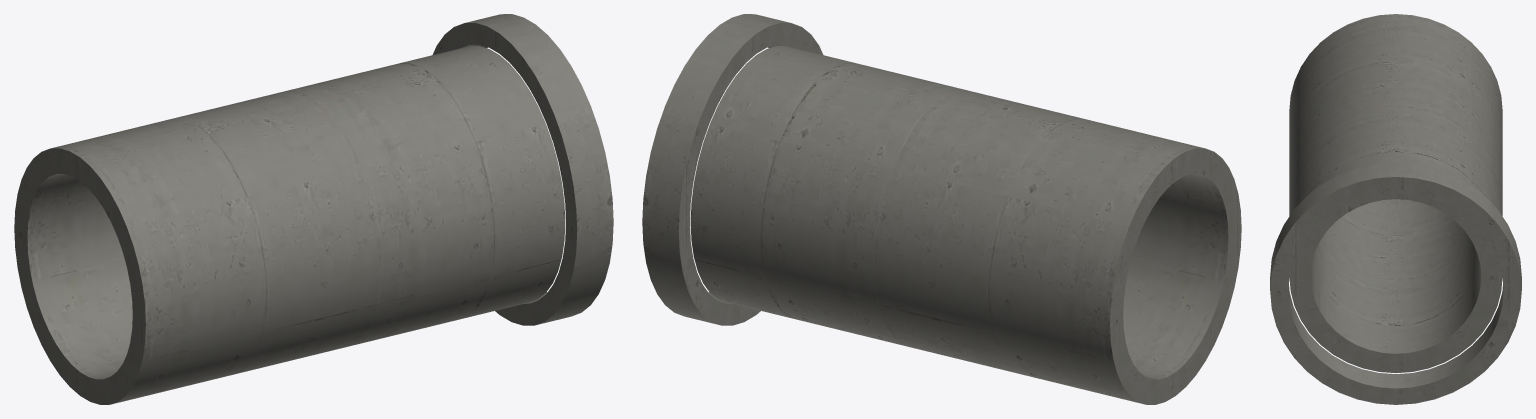
File: HID-DRN-001.glb
The picture shows the model from 3 angles, left to right: view 1: azimuth 30°, elevation 25°; view 2: azimuth 150°, elevation 25°; view 3: azimuth 270°, elevation 25°; orthographic projection. The views are drawn at different scales.
Visible parts, largest first — view 1: HID-DRN-001_tubo, HID-DRN-001_bolsa; view 2: HID-DRN-001_tubo, HID-DRN-001_bolsa; view 3: HID-DRN-001_tubo, HID-DRN-001_bolsa.
Part boxes in pixels (x1,y1,x2,y2): HID-DRN-001_tubo: (14, 46, 565, 404); HID-DRN-001_bolsa: (432, 14, 613, 325); HID-DRN-001_tubo: (690, 46, 1241, 404); HID-DRN-001_bolsa: (642, 14, 823, 325); HID-DRN-001_tubo: (1289, 14, 1502, 372); HID-DRN-001_bolsa: (1270, 162, 1521, 404).
Size of the model in its own units: 1 by 0.59 by 0.59.
1 material, 1 textured.
